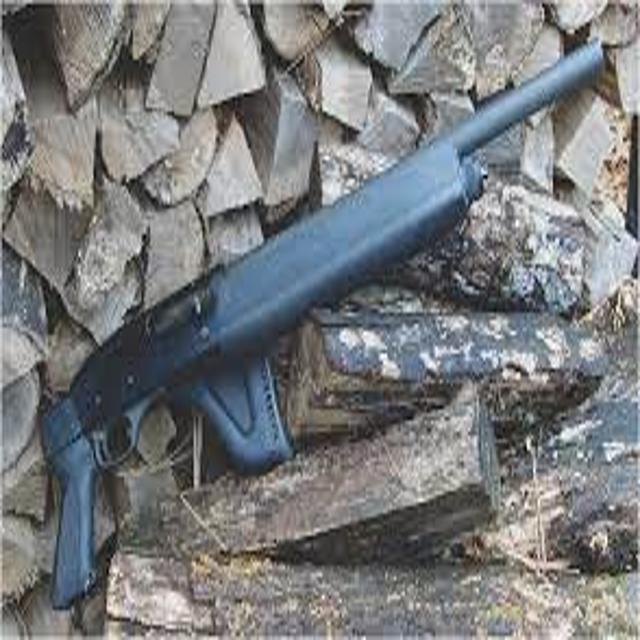gun: (8, 23, 630, 628)
